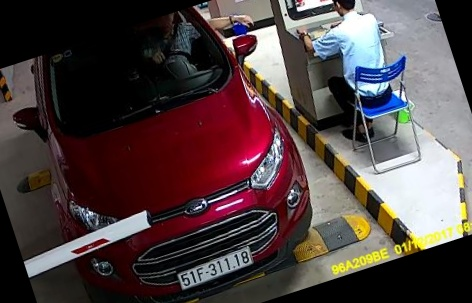plate: (167, 243, 260, 296)
